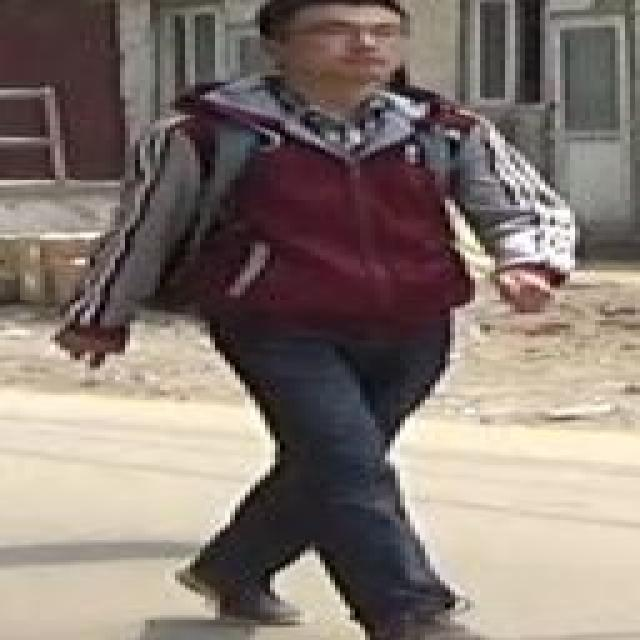adult: (84, 0, 601, 640)
